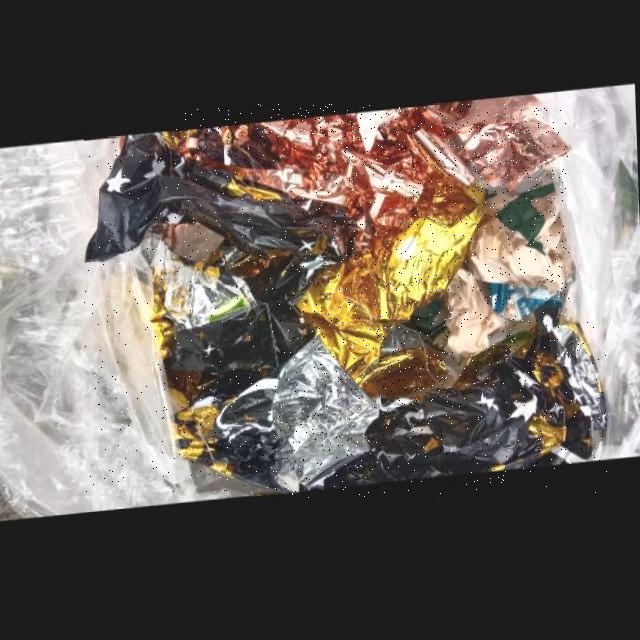metal: (84, 137, 337, 496), (173, 104, 569, 260), (300, 322, 607, 497), (297, 191, 485, 406), (273, 343, 379, 497)
paper: (433, 178, 569, 367)
